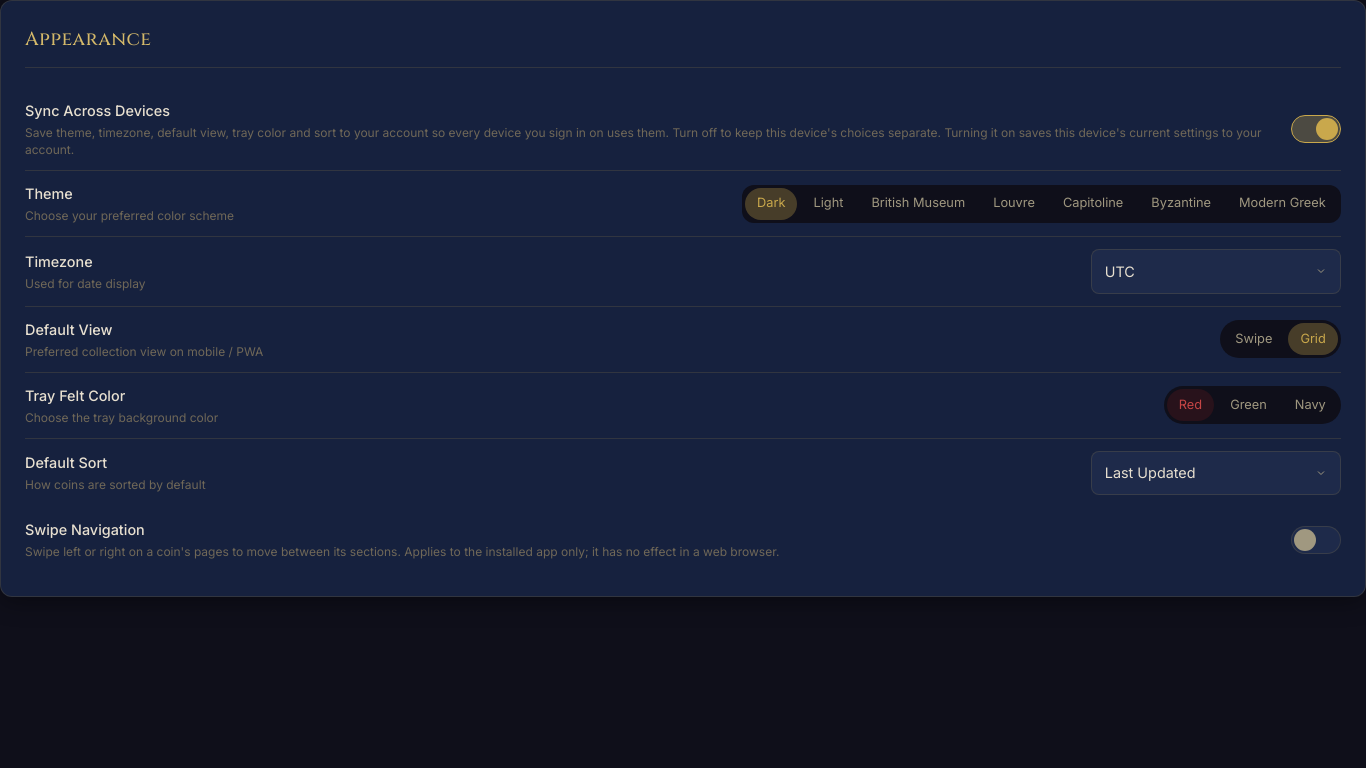
Test: S4: rejected request reverts toggle and surfaces error › surfaces an error message on API failure -- no silent failure
Click the checkbox named "Swipe navigation": (1316, 540) 1291,526 -> 1341,554
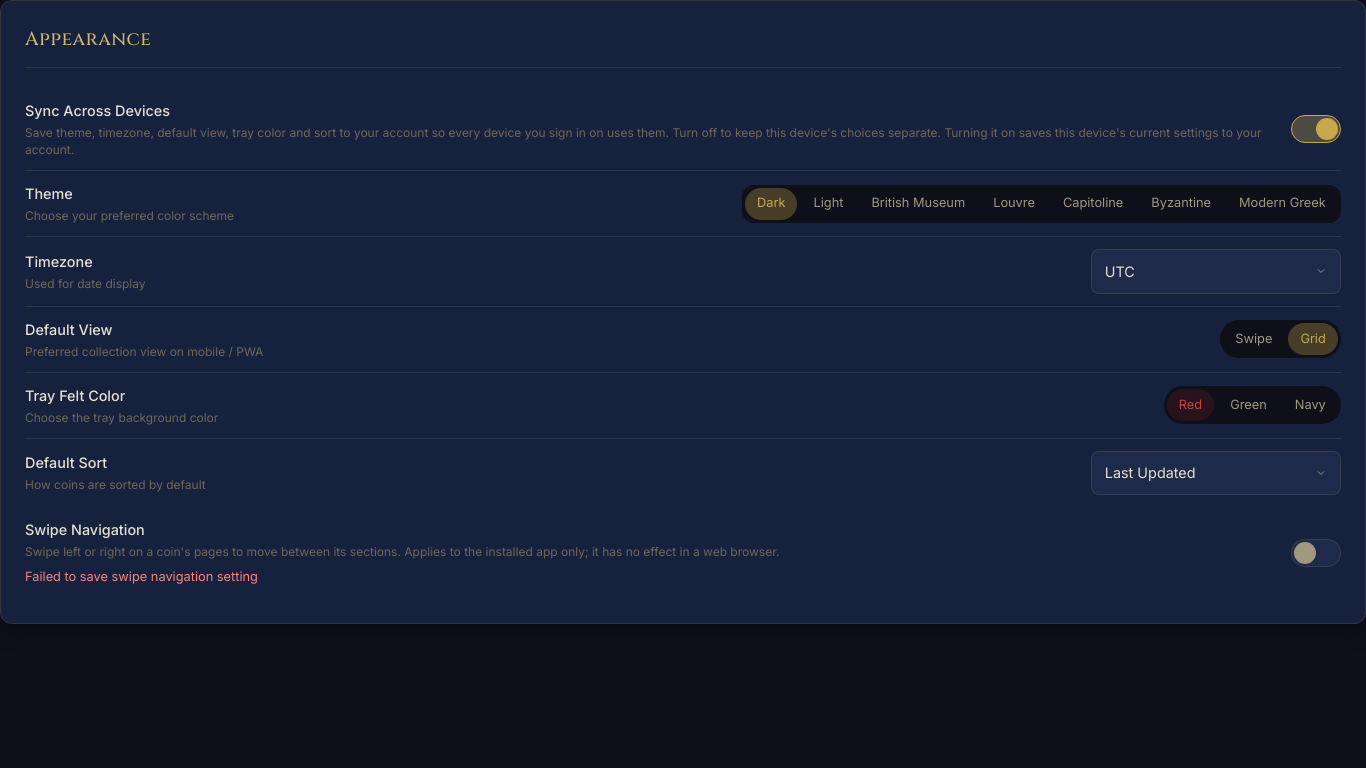
Check: the text "Failed to save swipe navigation setting" is shown, box 25,569 -> 258,584
